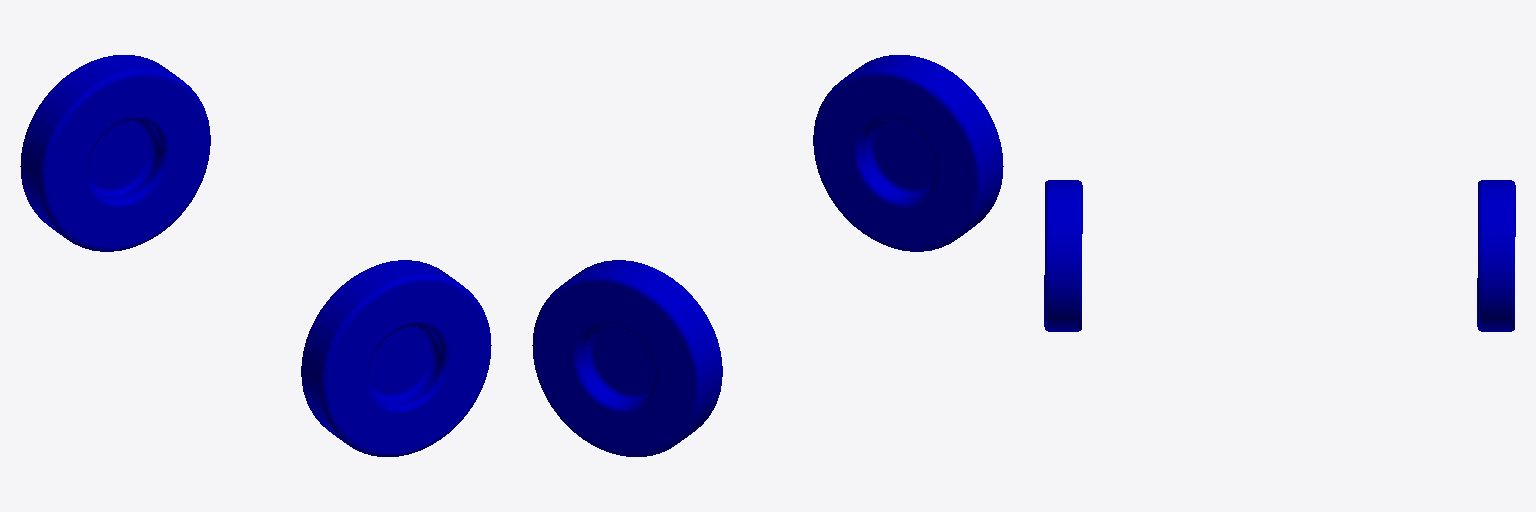
The robot description file, URDF, robot "nabtesco_robot":
<robot name="nabtesco_robot">
  <link name="left_wheel_lnk">
    <visual>
     <origin rpy="1.57 0 0" />
     <geometry>
      <mesh filename="package://nabtesco_serial/meshes/8020_Wheel.STL" />
     </geometry>
     <material name="blue">
        <color rgba="0 0 .8 1"/>
      </material>
   </visual>
  </link>
  <link name="right_wheel_lnk">
    <visual>
    <origin rpy="1.57 0 0" />
     <geometry>
      <mesh filename="package://nabtesco_serial/meshes/8020_Wheel.STL" />
     </geometry>
     <material name="blue">
        <color rgba="0 0 .8 1"/>
      </material>
   </visual>
  </link>
  <link name="base_link"> 
   <visual>
     <origin xyz="0 0 0" rpy="1.57 0 0" />
     <geometry>
      <mesh filename="package://nabtesco_serial/meshes/nabtesco_base.STL" />
     </geometry>
     <material name="blue">
        <color rgba="0 0 .8 1"/>
      </material>
   </visual>
   <collision>
      <geometry>
        <cylinder length="0.762" radius="0.419"/>
      </geometry>
    </collision>
    <inertial>
      <mass value="10"/>
      <inertia ixx="0.4" ixy="0.0" ixz="0.0" iyy="0.4" iyz="0.0" izz="0.2"/>
    </inertial>
   </link>
  <link name="base_laser">
    <visual>
     <origin xyz="0 0 0" rpy="0 0 0" />
     <geometry>
      <mesh filename="package://nabtesco_serial/meshes/hokuyo.dae" />
     </geometry>
     <material name="blue">
        <color rgba="0 0 .8 1"/>
      </material>
   </visual>

   <collision>
     <origin xyz="0 0 0" rpy="0 0 0"/>
     <geometry>
        <box size="0.1 0.1 0.1"/>
     </geometry>
   </collision>
   <inertial> 
     <mass value="1e-5" />
     <origin xyz="0 0 0" rpy="0 0 0"/>
     <inertia ixx="1e-6" ixy="0" ixz="0" iyy="1e-6" iyz="0" izz="1e-6" />
   </inertial>
  </link>

  <sensor name="hokuyo_laser" update_rate="10">
   <parent link="base_laser"/>
   <origin xyz="0 0 0" rpy="0 0 0"/>
   <ray>
     <horizontal samples="100" resolution="1" min_angle="-1.5708" max_angle="1.5708"/>
     <vertical samples="1" resolution="1" min_angle="0" max_angle="0"/>
   </ray>
 </sensor>

  <!--link name="base_footprint"/>
  <joint name="footprint" type="fixed" >
   <parent link="base_link" />
    <child link="base_footprint" />
    <origin xyz="0 0 -0.1016" rpy="0 0 0" />
  </joint-->

  <joint name="joint1" type="continuous">
    <parent link="base_link"/>
    <child link="right_wheel_lnk"/>
    <origin xyz="0 0.29 -0.025"/>
    <axis xyz="0 1 0" />
  </joint>

  <joint name="joint2" type="continuous">
    <parent link="base_link"/>
    <child link="left_wheel_lnk"/>
    <origin xyz="0 -0.29 -0.025" />
    <axis xyz="0 1 0" />
  </joint>

  <joint name="joint3" type="fixed">
    <parent link="base_link"/>
    <child link="base_laser"/>
    <origin xyz="0 0 0.482" />
  </joint>
</robot>

--- What the picture shows (computed from the rendered views, not written in the file) ---
3 views of the same robot in one strip: view 1: azimuth 30°, elevation 25°; view 2: azimuth 150°, elevation 25°; view 3: azimuth 270°, elevation 25° (orthographic).
Robot: nabtesco_robot — 4 links, 3 joints (2 continuous, 1 fixed); root link base_link; default pose: every joint at zero.
Visible links, largest first — view 1: left_wheel_lnk, right_wheel_lnk; view 2: left_wheel_lnk, right_wheel_lnk; view 3: left_wheel_lnk, right_wheel_lnk.
Link boxes in pixels (<box>): left_wheel_lnk: <box>301,260,491,456</box>; right_wheel_lnk: <box>20,55,210,251</box>; left_wheel_lnk: <box>813,55,1003,251</box>; right_wheel_lnk: <box>532,260,722,456</box>; left_wheel_lnk: <box>1044,180,1082,331</box>; right_wheel_lnk: <box>1477,180,1515,331</box>.
Size in the robot's own frame: 0.2032 by 0.631 by 0.2029 metres.
Meshes: 3 distinct files referenced, 2 mesh visuals loaded (1 binary STL); not drawn: 2 (reference not matched to a file when rendering).